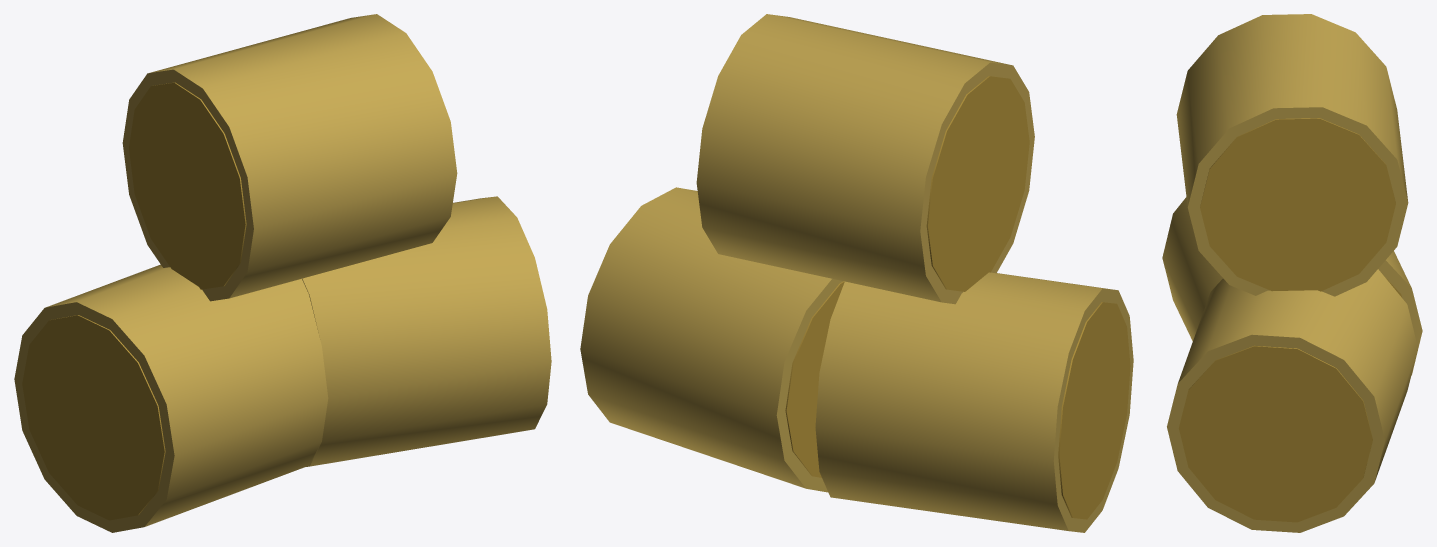
Rendered from hay_bales.glb.
3 views of the same model, side by side, from view 1: azimuth 30°, elevation 25°; view 2: azimuth 150°, elevation 25°; view 3: azimuth 270°, elevation 25° (orthographic). The views are drawn at different scales.
Visible parts, largest first — view 1: decor-hay_bales; view 2: decor-hay_bales; view 3: decor-hay_bales.
Part boxes in pixels (x1,y1,x2,y2): decor-hay_bales: [14, 14, 551, 532]; decor-hay_bales: [580, 14, 1133, 532]; decor-hay_bales: [1162, 14, 1422, 532].
Size of the model in its own units: 1.94 by 1.7 by 1.06.
